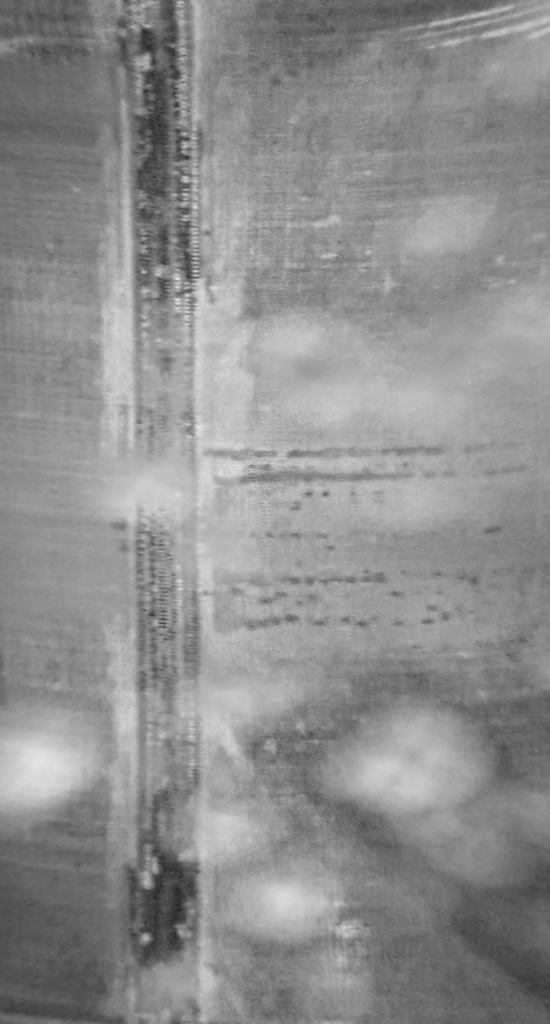splice: (116, 1, 213, 1022)
